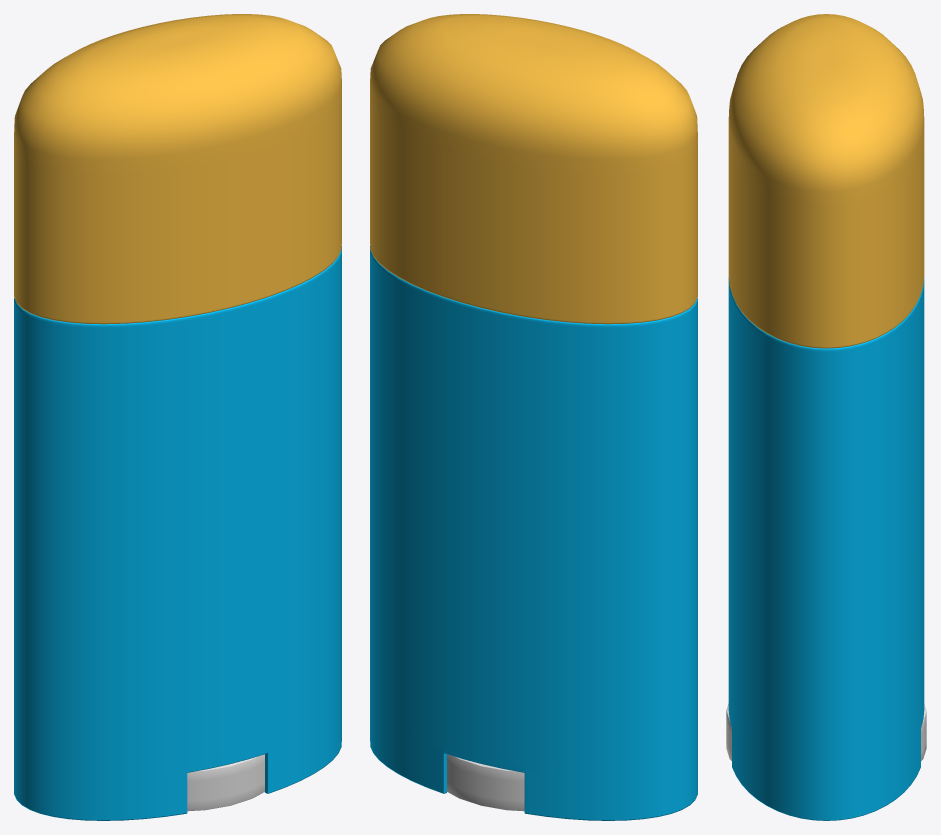
File: deo.gltf
The picture shows the model from 3 angles, left to right: view 1: azimuth 30°, elevation 25°; view 2: azimuth 150°, elevation 25°; view 3: azimuth 270°, elevation 25°; orthographic projection. The views are drawn at different scales.
Parts seen in each view (by area): view 1: body, lid, roll; view 2: body, lid, roll; view 3: body, lid, roll.
Boxes of the visible parts, x1,y1,x2,y2 form: body: (14,245,341,820); lid: (14,14,341,324); roll: (187,754,264,811); body: (370,245,697,820); lid: (370,14,697,324); roll: (447,754,524,811); body: (728,277,924,820); lid: (728,14,924,348); roll: (726,704,926,760).
Size of the model in its own units: 0.056 by 0.1248 by 0.0328.
